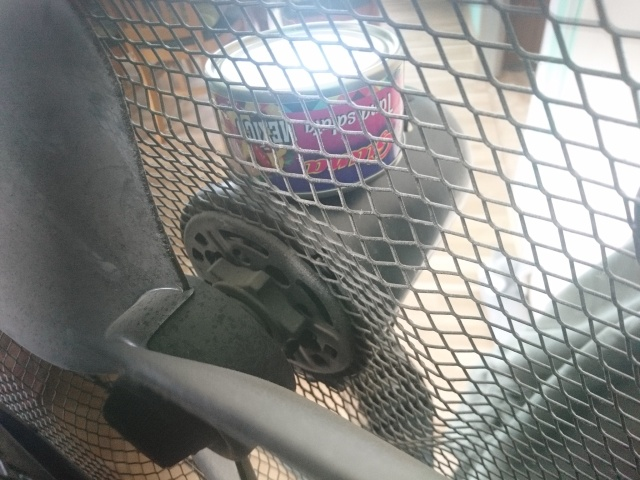Giana Tuna Salad Mexico 185g: (201, 17, 409, 201)
